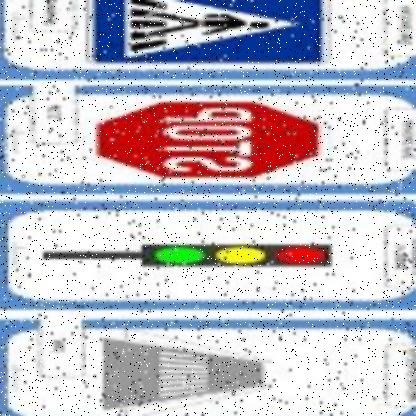Pedestrian Crossing: (72, 1, 333, 66)
